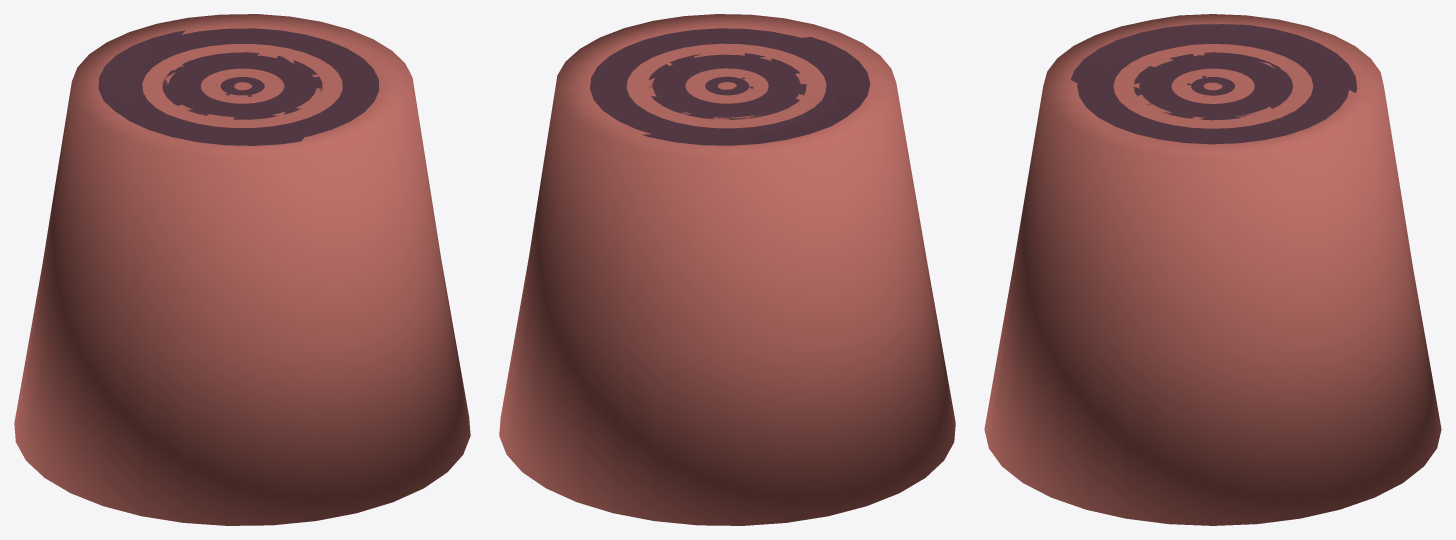
File: Tree_Base_Spell.fbx
3 views of the same model, side by side, from view 1: azimuth 30°, elevation 25°; view 2: azimuth 150°, elevation 25°; view 3: azimuth 270°, elevation 25° (orthographic).
Parts seen in each view (by area): view 1: Cylinder.002; view 2: Cylinder.002; view 3: Cylinder.002.
Part boxes in pixels (x1,y1,x2,y2): Cylinder.002: (14, 14, 470, 525); Cylinder.002: (499, 14, 955, 525); Cylinder.002: (984, 14, 1441, 525).
Bounding box in the file's own units: 256 × 213 × 256.
Materials: 1 (1 with a texture image).
